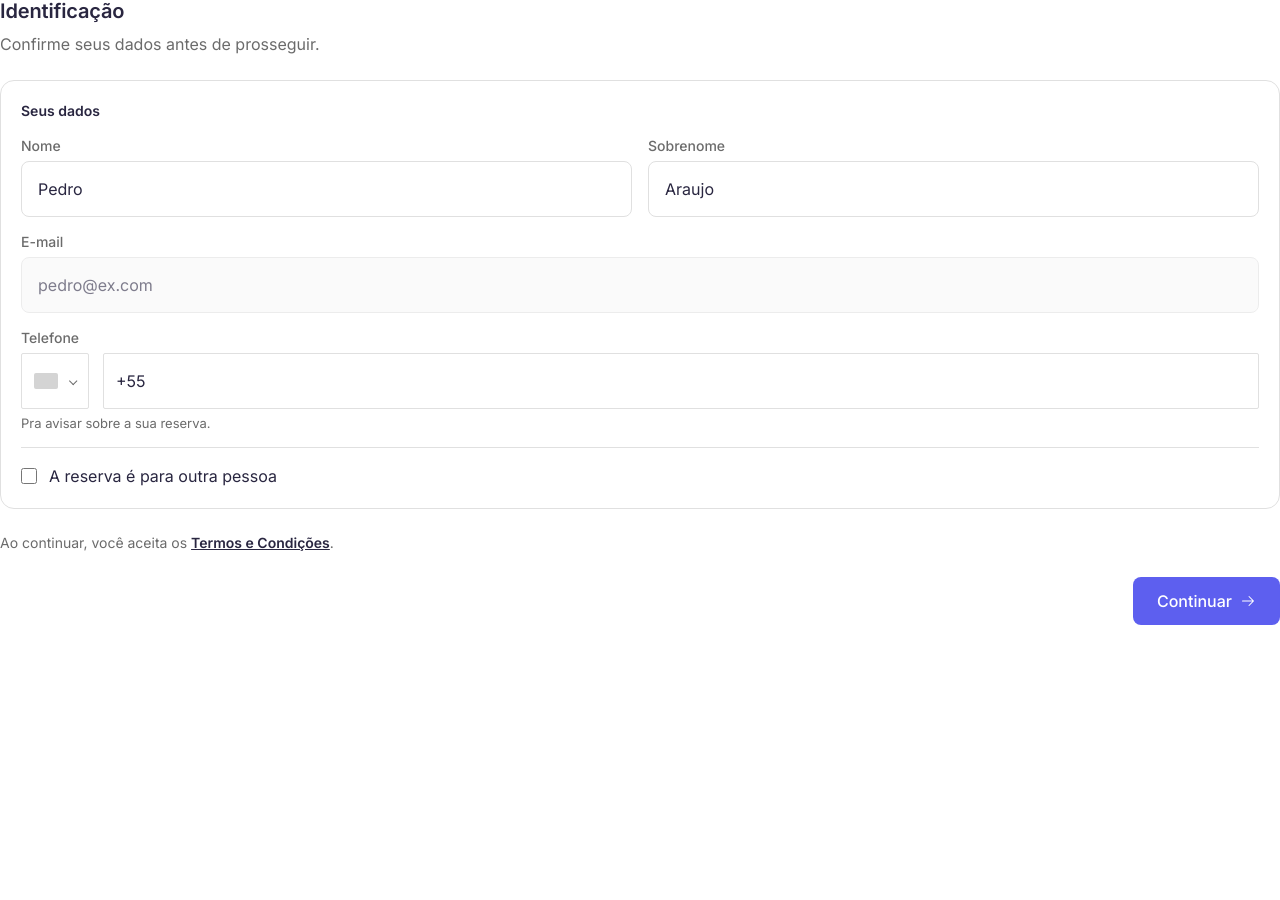
Test case: Step1Identity › abre os Termos num modal, sem submeter o passo
Click the button "Termos e Condições": (260, 543) x1=191 y1=533 x2=330 y2=553
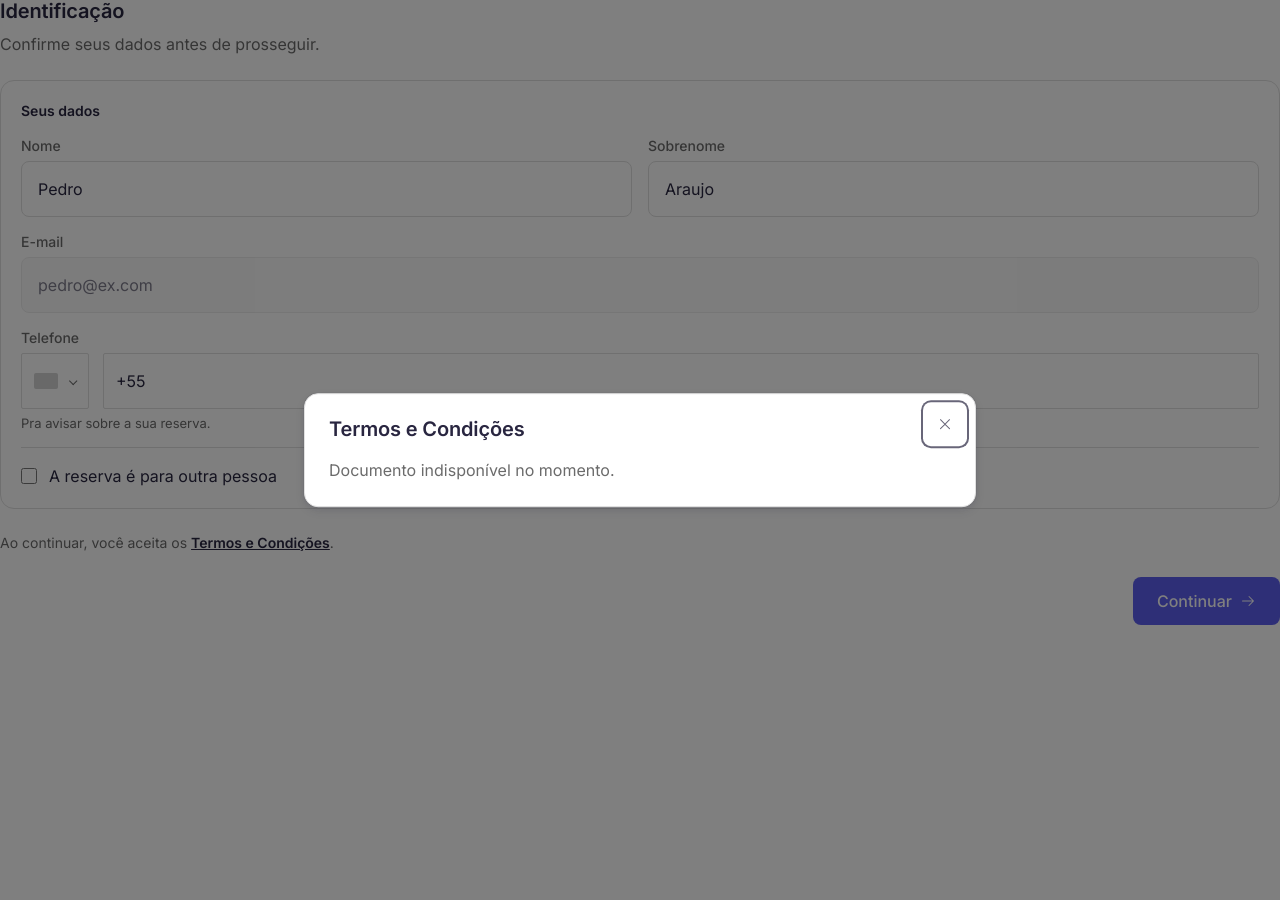
Check: the dialog is shown, box x1=304 y1=393 x2=976 y2=507
